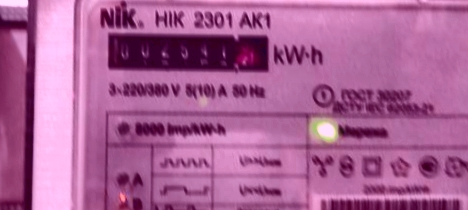0: (119, 37, 132, 58), (140, 35, 152, 57)
1: (219, 38, 230, 58)
2: (160, 37, 172, 57)
4: (200, 37, 212, 58)
5: (179, 36, 191, 59)
6: (241, 51, 252, 66)
screen: (99, 22, 282, 80)
